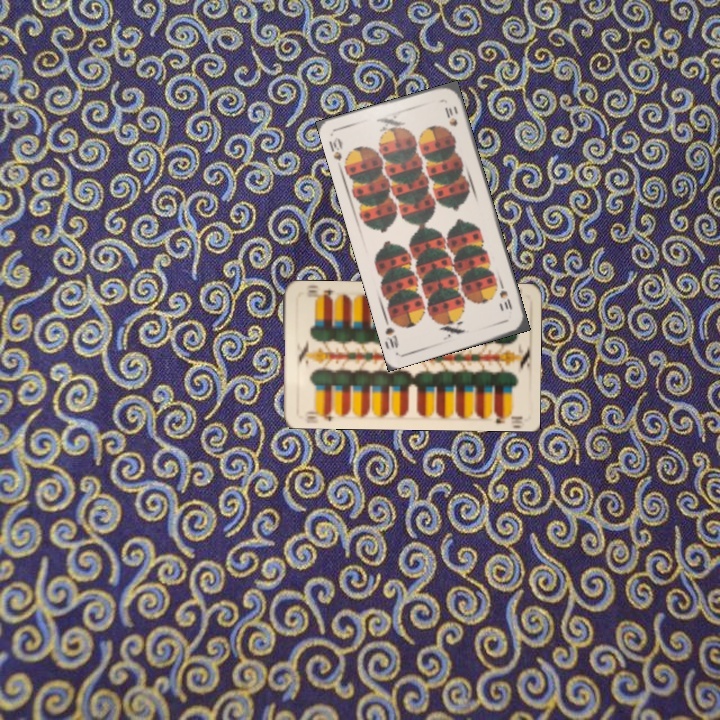E10: (301, 404, 335, 424)
S10: (325, 133, 345, 172), (495, 279, 515, 312)
